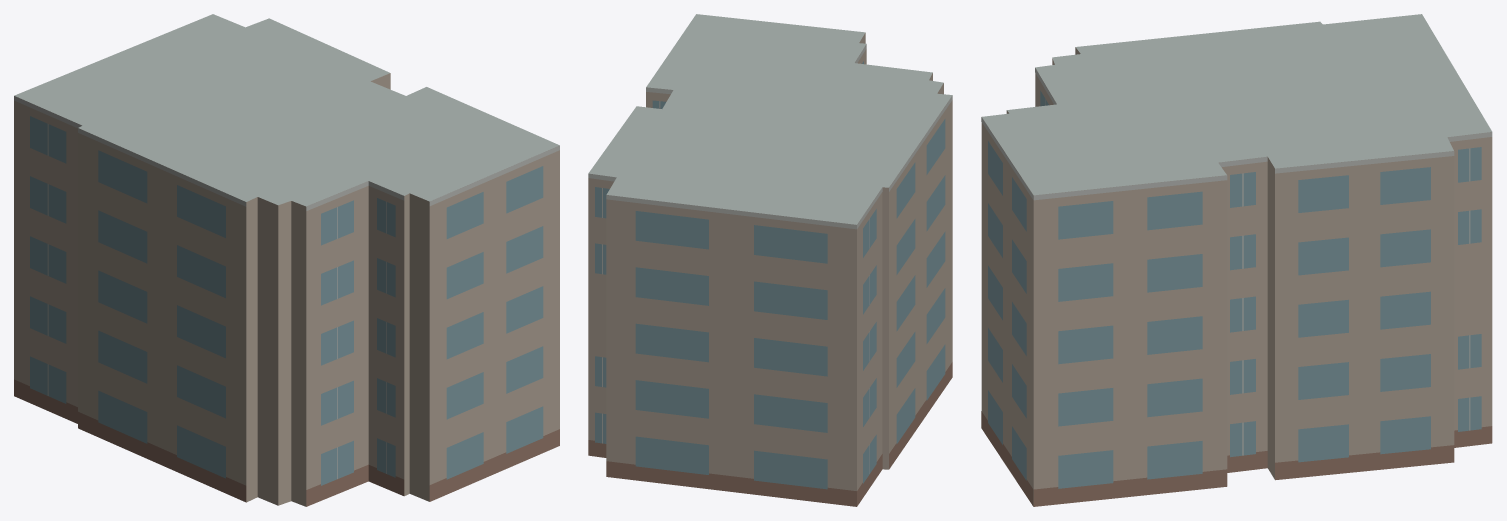
Rendered from survey-upis-32812542.glb.
The picture shows the model from 3 angles, left to right: view 1: azimuth 30°, elevation 25°; view 2: azimuth 150°, elevation 25°; view 3: azimuth 270°, elevation 25°; orthographic projection. The views are drawn at different scales.
Visible parts, largest first — view 1: survey-upis-32812542.tmp; view 2: survey-upis-32812542.tmp; view 3: survey-upis-32812542.tmp.
Part boxes in pixels (x1,y1,x2,y2): survey-upis-32812542.tmp: (14,14,559,506); survey-upis-32812542.tmp: (588,14,952,506); survey-upis-32812542.tmp: (981,14,1492,506).
Bounding box in the file's own units: 19.05 × 15.25 × 22.68.
